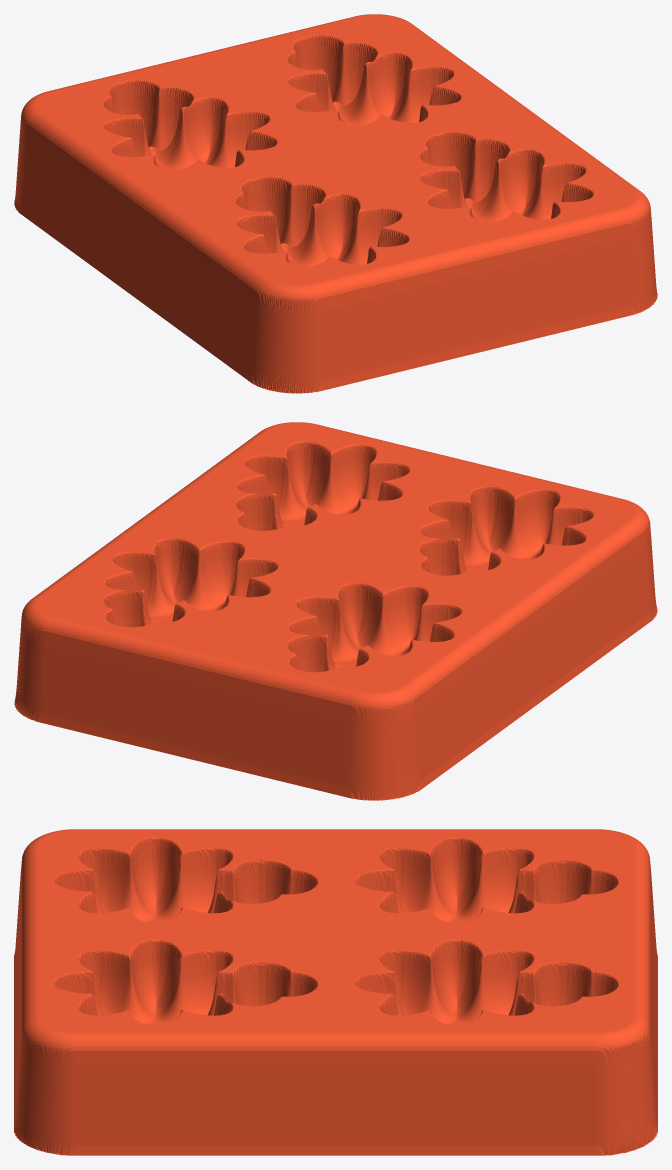
File: mold.glb
3 views of the same model, one above another, from view 1: azimuth 30°, elevation 25°; view 2: azimuth 150°, elevation 25°; view 3: azimuth 270°, elevation 25° (orthographic). The views are drawn at different scales.
Parts seen in each view (by area): view 1: geometry_0; view 2: geometry_0; view 3: geometry_0.
Part boxes in pixels (bbox=[...]): geometry_0: bbox=[14, 14, 657, 393]; geometry_0: bbox=[14, 422, 657, 800]; geometry_0: bbox=[14, 829, 657, 1155].
Size of the model in its own units: 0.077 by 0.0182 by 0.0942.
